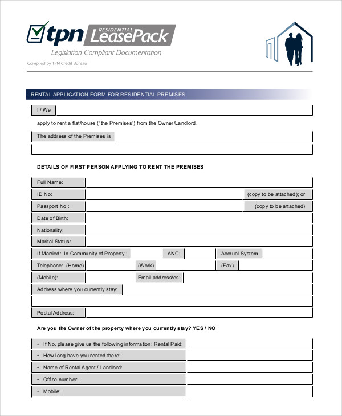textbox: (30, 292, 315, 308), (30, 141, 315, 156), (56, 102, 313, 118), (83, 220, 315, 236), (85, 209, 315, 225), (86, 173, 315, 189), (85, 234, 314, 250), (85, 305, 314, 320), (116, 129, 313, 145), (122, 283, 314, 296), (185, 369, 315, 387), (183, 382, 315, 399), (184, 358, 315, 375), (84, 189, 246, 202), (85, 201, 244, 214), (181, 270, 315, 285), (184, 336, 314, 350), (185, 348, 315, 362), (238, 259, 314, 274), (156, 259, 217, 273), (260, 246, 315, 260), (84, 258, 137, 272), (84, 270, 138, 283), (130, 246, 164, 261), (183, 248, 218, 261)
